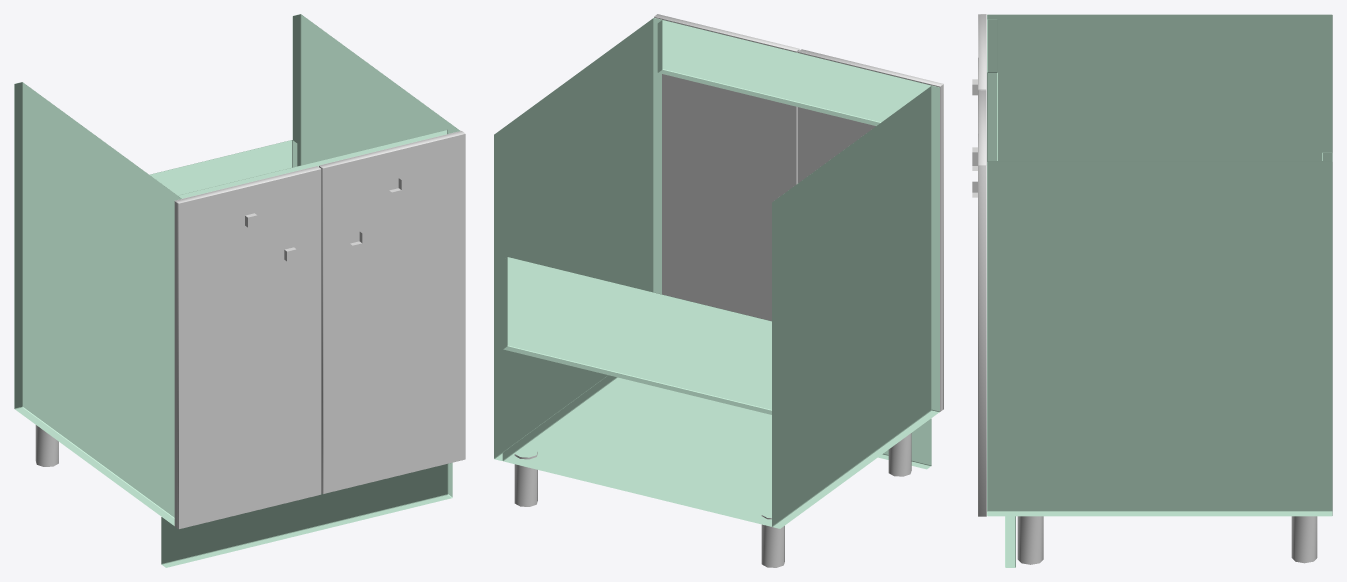
3 renders of one model, left to right at view 1: azimuth 30°, elevation 25°; view 2: azimuth 150°, elevation 25°; view 3: azimuth 270°, elevation 25°, orthographic. The views are drawn at different scales.
Visible parts, largest first — view 1: M_CL_3, M_CL_1_F.2, M_CL_1_F.001, M_CL_1_F_C.2, Legs; view 2: M_CL_3, M_CL_1_F_A.001, M_CL_1_F_B.001, M_CL_1_F_A.2, Legs, M_CL_1_F_C.2, M_CL_1_F.2, M_CL_1_F.001; view 3: M_CL_3, M_CL_1_F.001, Legs, M_CL_1_F.2.
Part boxes in pixels (box(x1,y1,x2,y2)): M_CL_3: box(14, 14, 460, 567); M_CL_1_F.2: box(175, 166, 321, 529); M_CL_1_F.001: box(320, 131, 465, 493); M_CL_1_F_C.2: box(174, 201, 177, 528); Legs: box(35, 425, 58, 466); M_CL_3: box(494, 17, 939, 528); M_CL_1_F_A.001: box(654, 16, 798, 309); M_CL_1_F_B.001: box(725, 34, 798, 320); M_CL_1_F_A.2: box(798, 52, 942, 182); Legs: box(514, 433, 911, 567); M_CL_1_F_C.2: box(798, 52, 943, 411); M_CL_1_F.2: box(798, 49, 943, 409); M_CL_1_F.001: box(654, 14, 799, 50); M_CL_3: box(987, 14, 1332, 567); M_CL_1_F.001: box(978, 90, 986, 516); Legs: box(1017, 516, 1317, 564); M_CL_1_F.2: box(978, 14, 986, 133).
Bounding box in the file's own units: 4.88 × 6.1 × 4.92.
